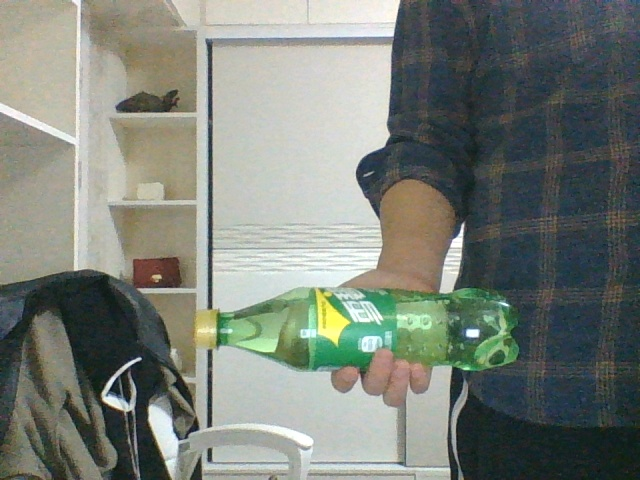Sprite: (194, 286, 522, 370)
